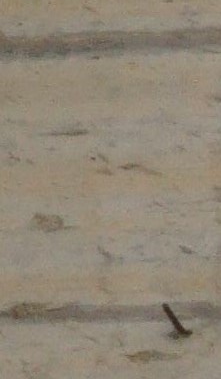Exposed reinforcement: (161, 302, 191, 336)
